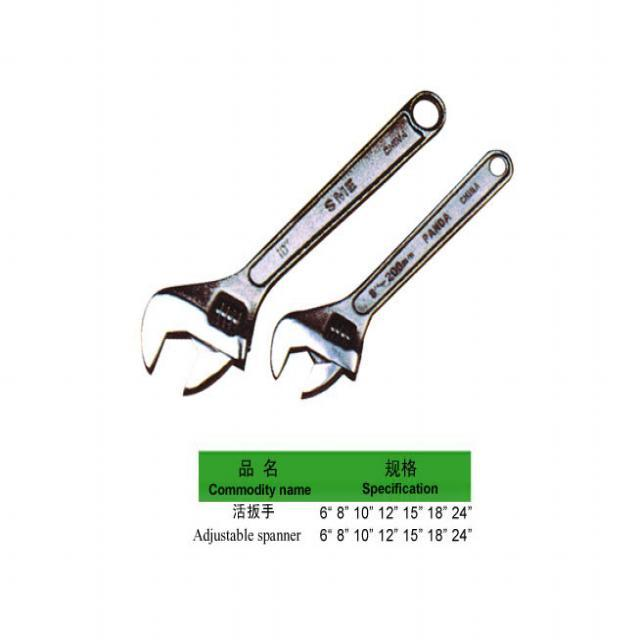wrench: (132, 84, 450, 398), (262, 143, 515, 410)
